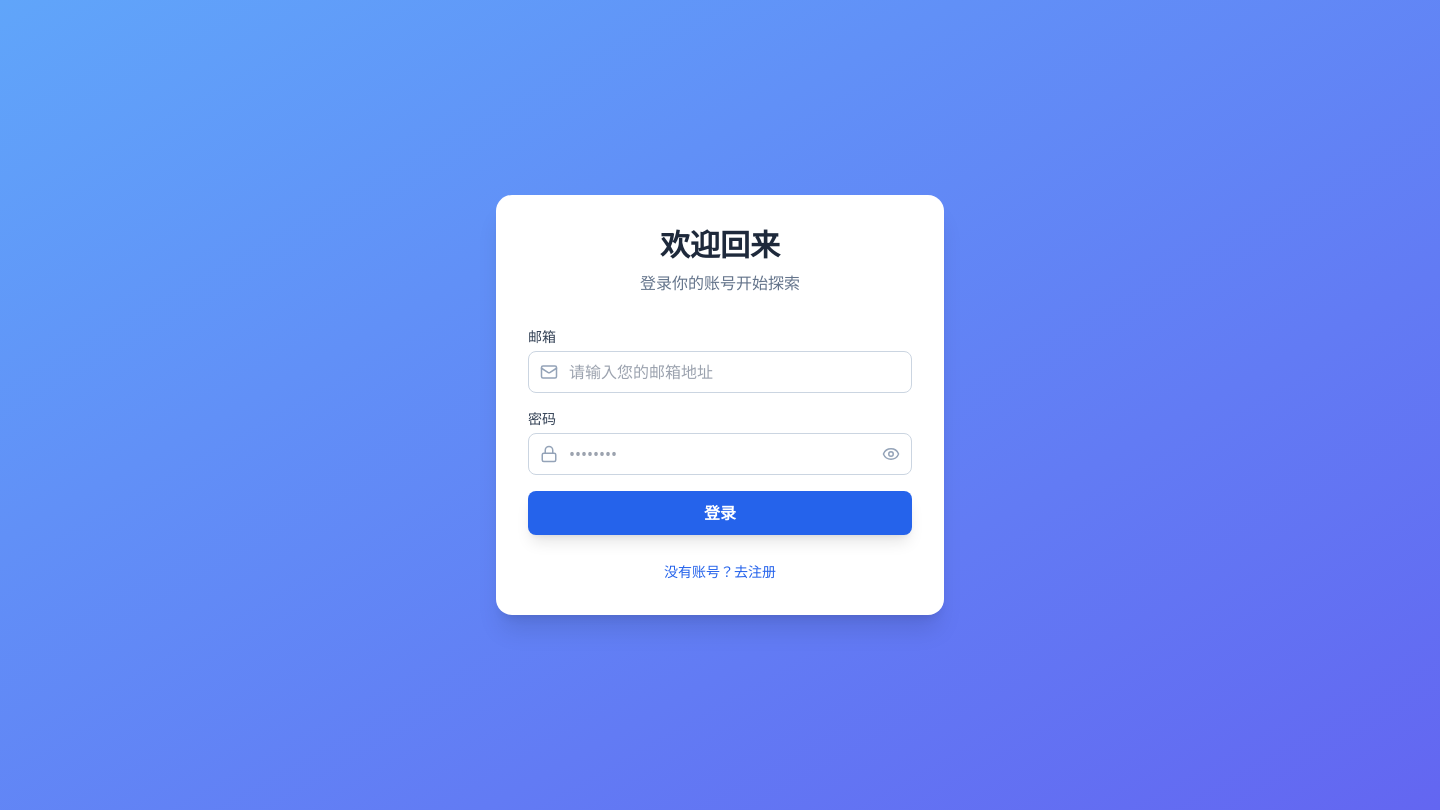
it: Auth Component › switches to signup form
Click the button "没有账号？去注册" at point(720, 572), box [664,562,776,582]
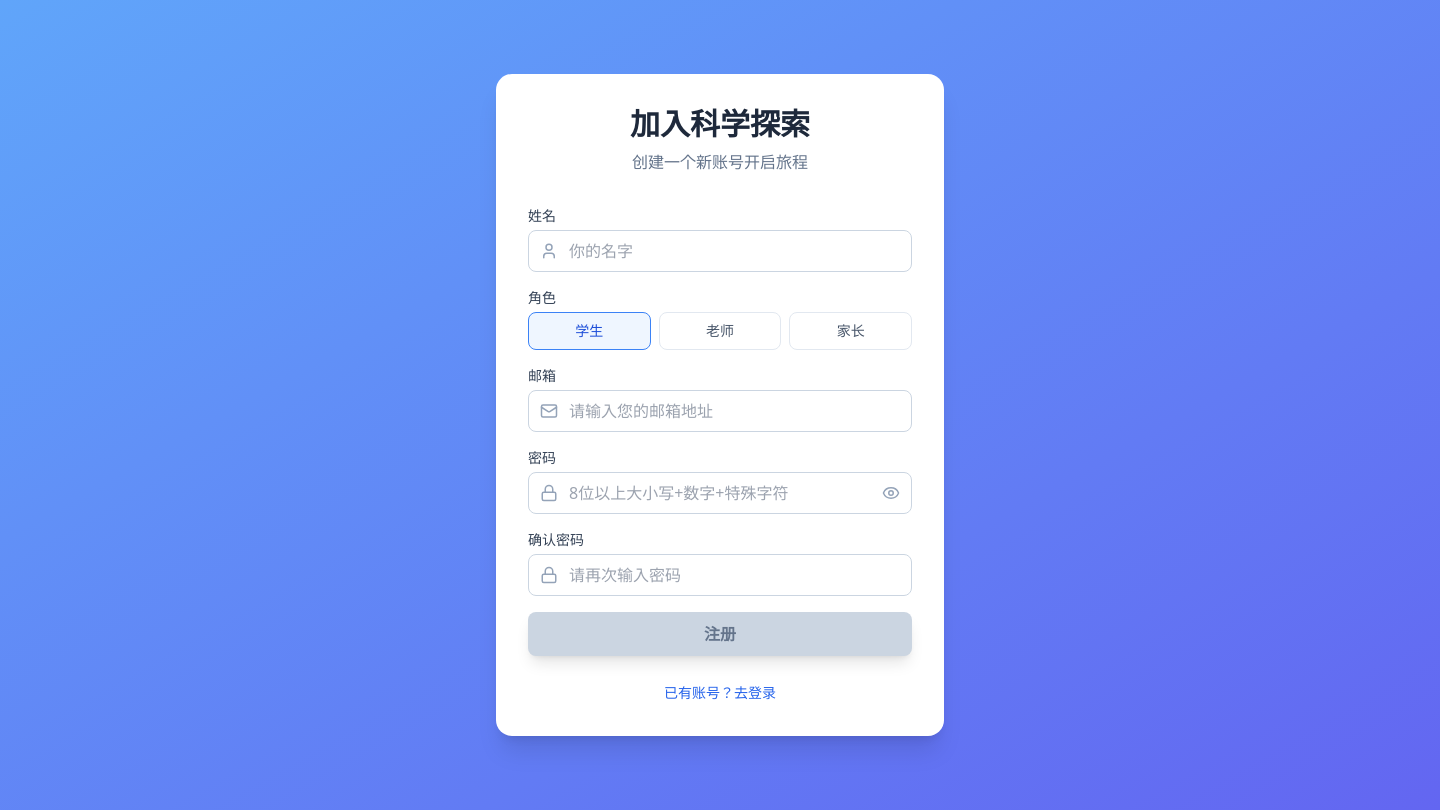
Result: the heading "加入科学探索" is shown at [630,103,810,144]
Result: the button "注册" is shown at [528,612,912,656]
Result: the text "确认密码" is shown at [528,530,584,549]
